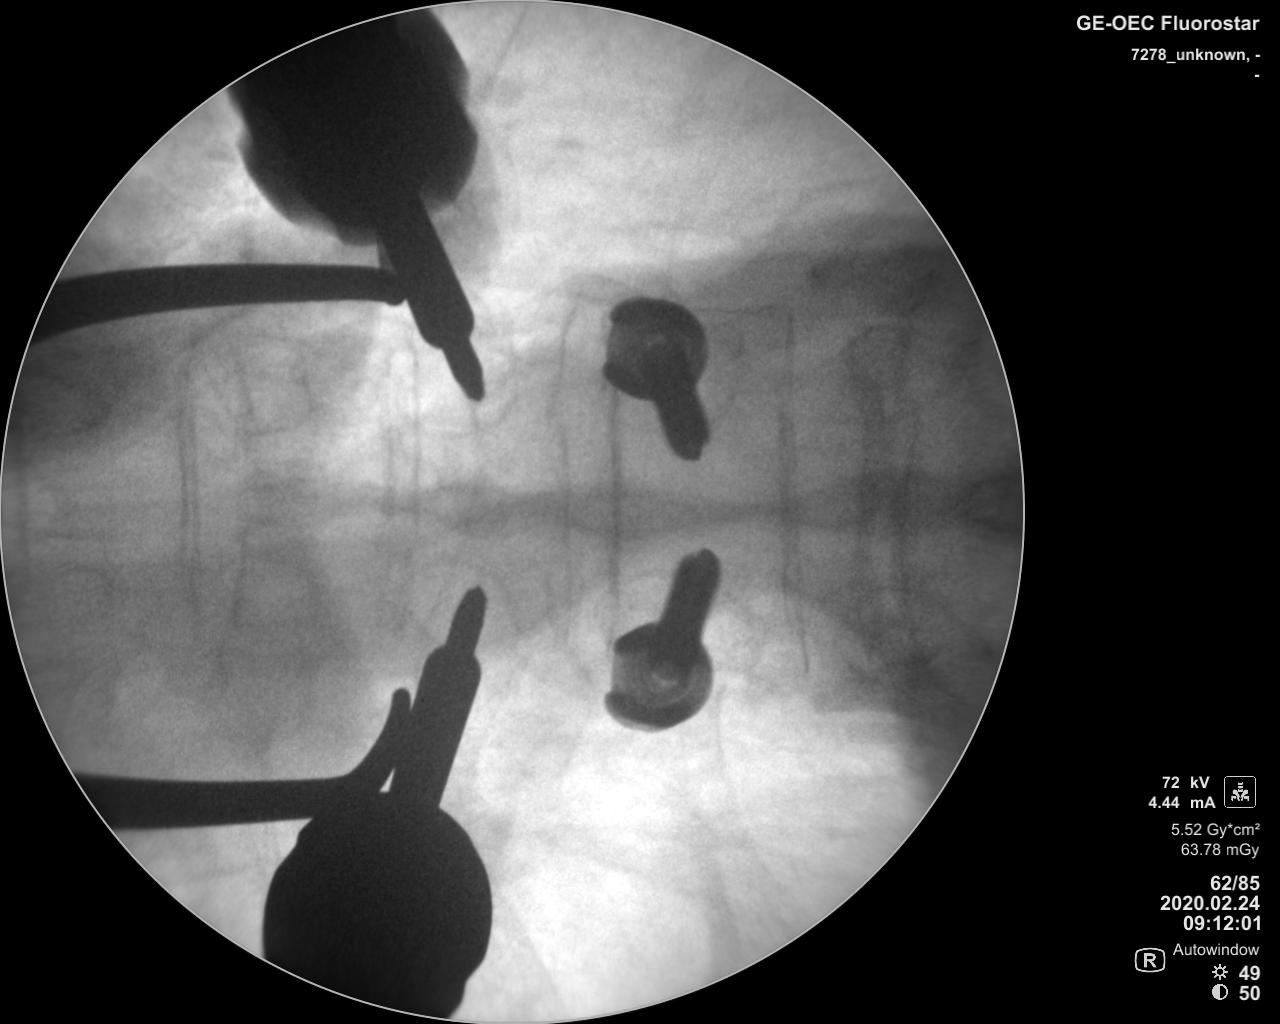eyes: (598, 568, 754, 673), (387, 338, 519, 432), (201, 338, 321, 434), (839, 580, 946, 678), (408, 556, 520, 648), (227, 555, 321, 635)
line: (836, 344, 875, 659), (772, 320, 804, 624), (546, 316, 577, 620), (377, 357, 403, 628), (404, 354, 428, 630), (169, 408, 207, 574), (226, 428, 257, 620), (600, 395, 625, 625)
nose: (777, 464, 953, 545), (546, 475, 726, 543), (379, 473, 541, 541), (220, 473, 363, 531)
